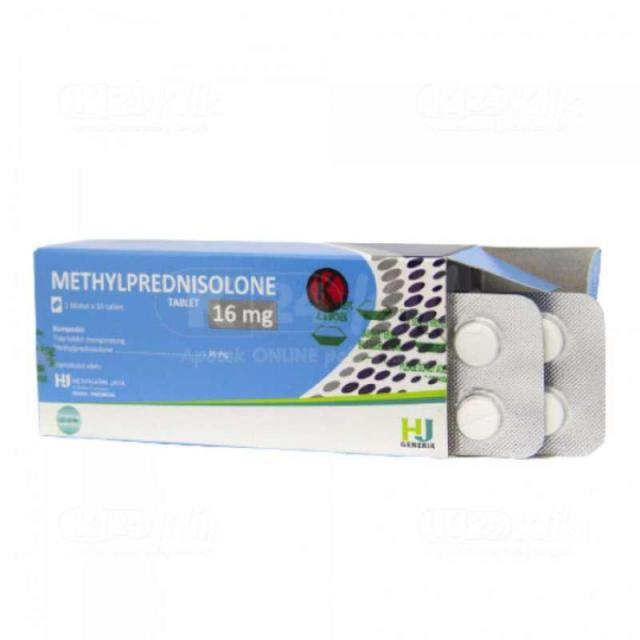drug-name: (48, 266, 278, 300)
